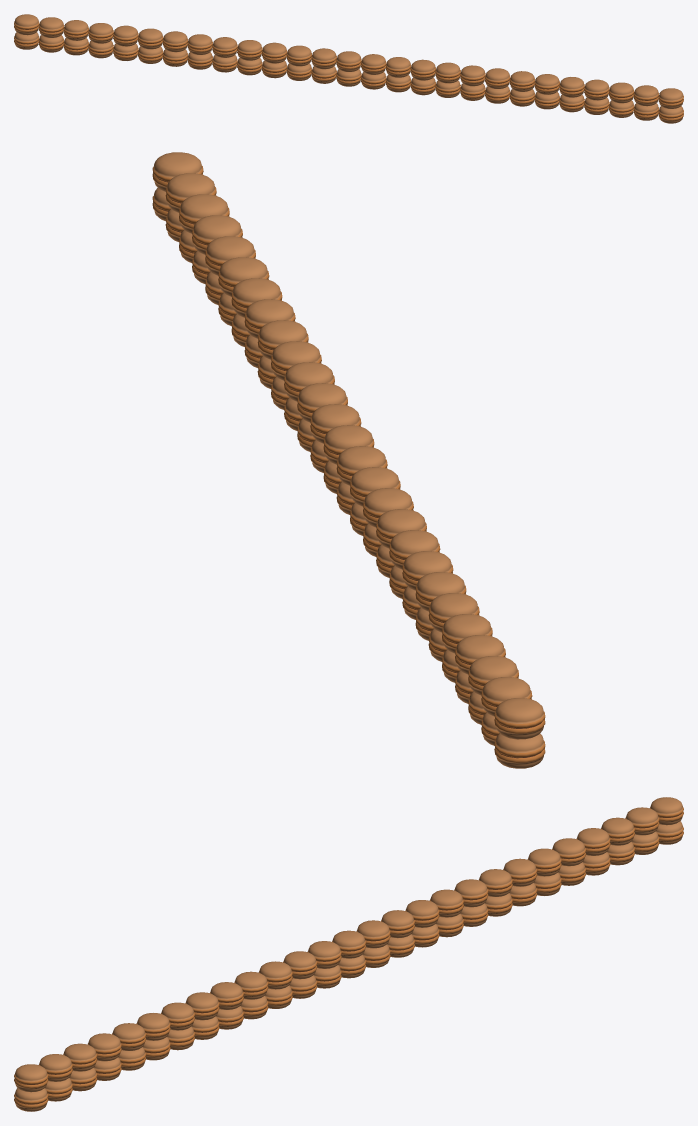
File: macaron_wall.fbx
The picture shows the model from 3 angles, top to bottom: view 1: azimuth 30°, elevation 25°; view 2: azimuth 150°, elevation 25°; view 3: azimuth 270°, elevation 25°; orthographic projection. The views are drawn at different scales.
Visible parts, largest first — view 1: 円.004; view 2: 円.004; view 3: 円.004.
Boxes of the visible parts, <box> form: 円.004: <box>14,14,683,123</box>; 円.004: <box>152,152,545,768</box>; 円.004: <box>14,797,683,1111</box>.
Bounding box in the file's own units: 310 × 20.14 × 312.
